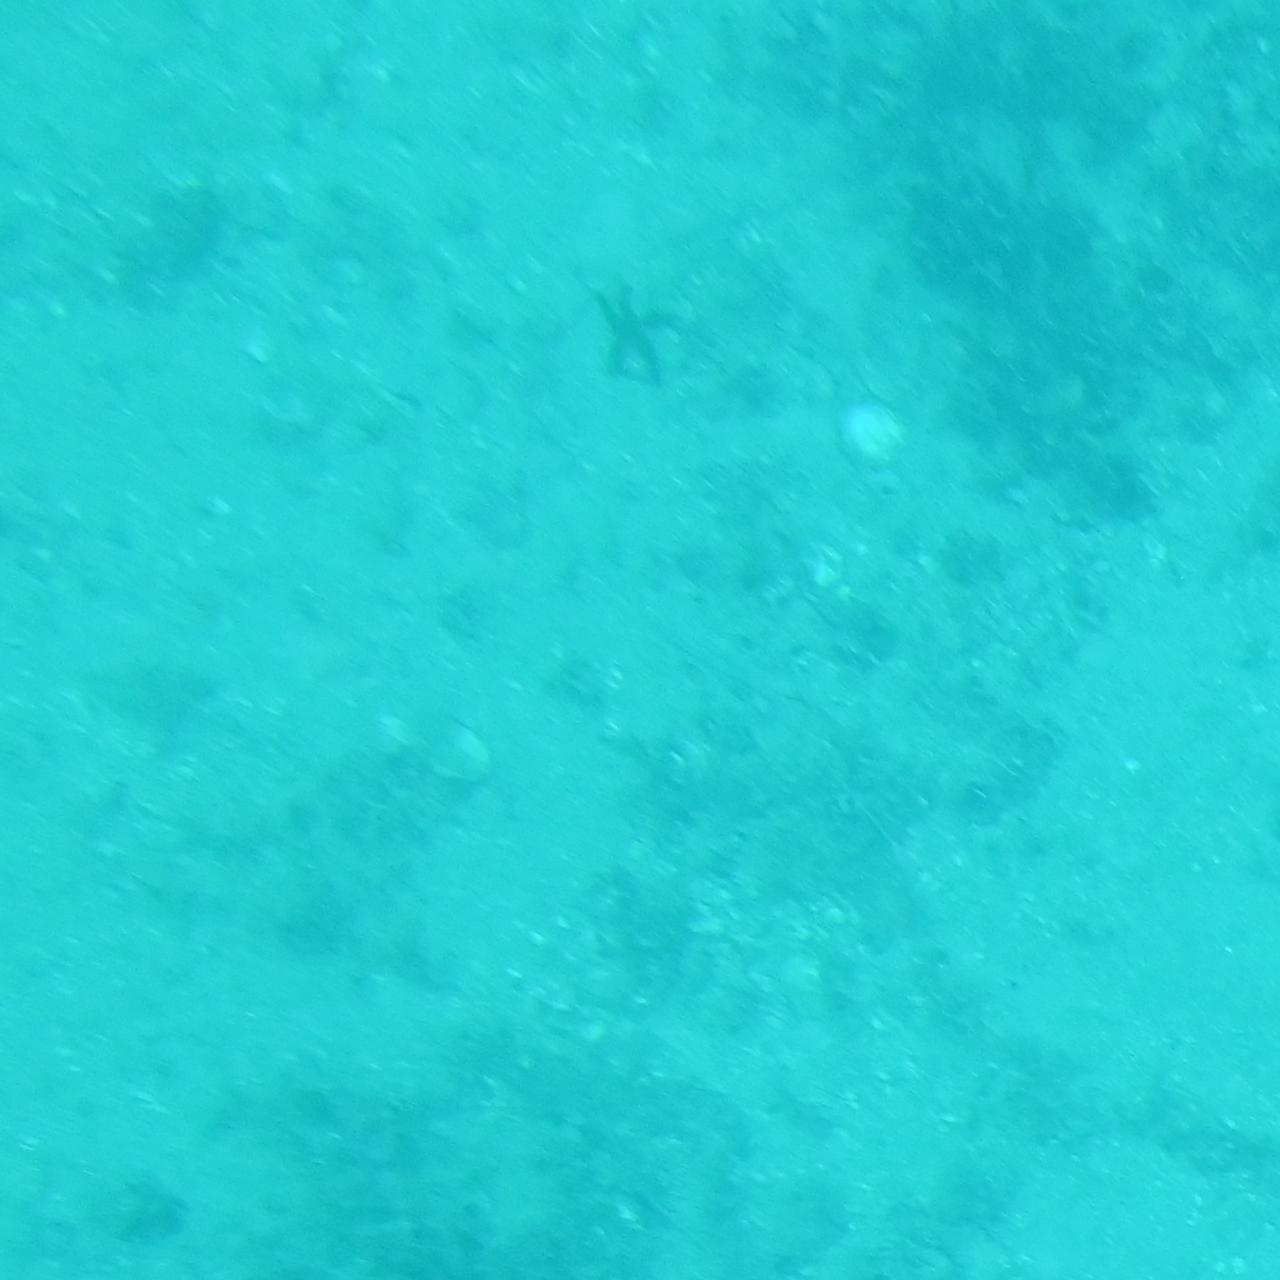Asteroidea: (567, 270, 713, 402)
